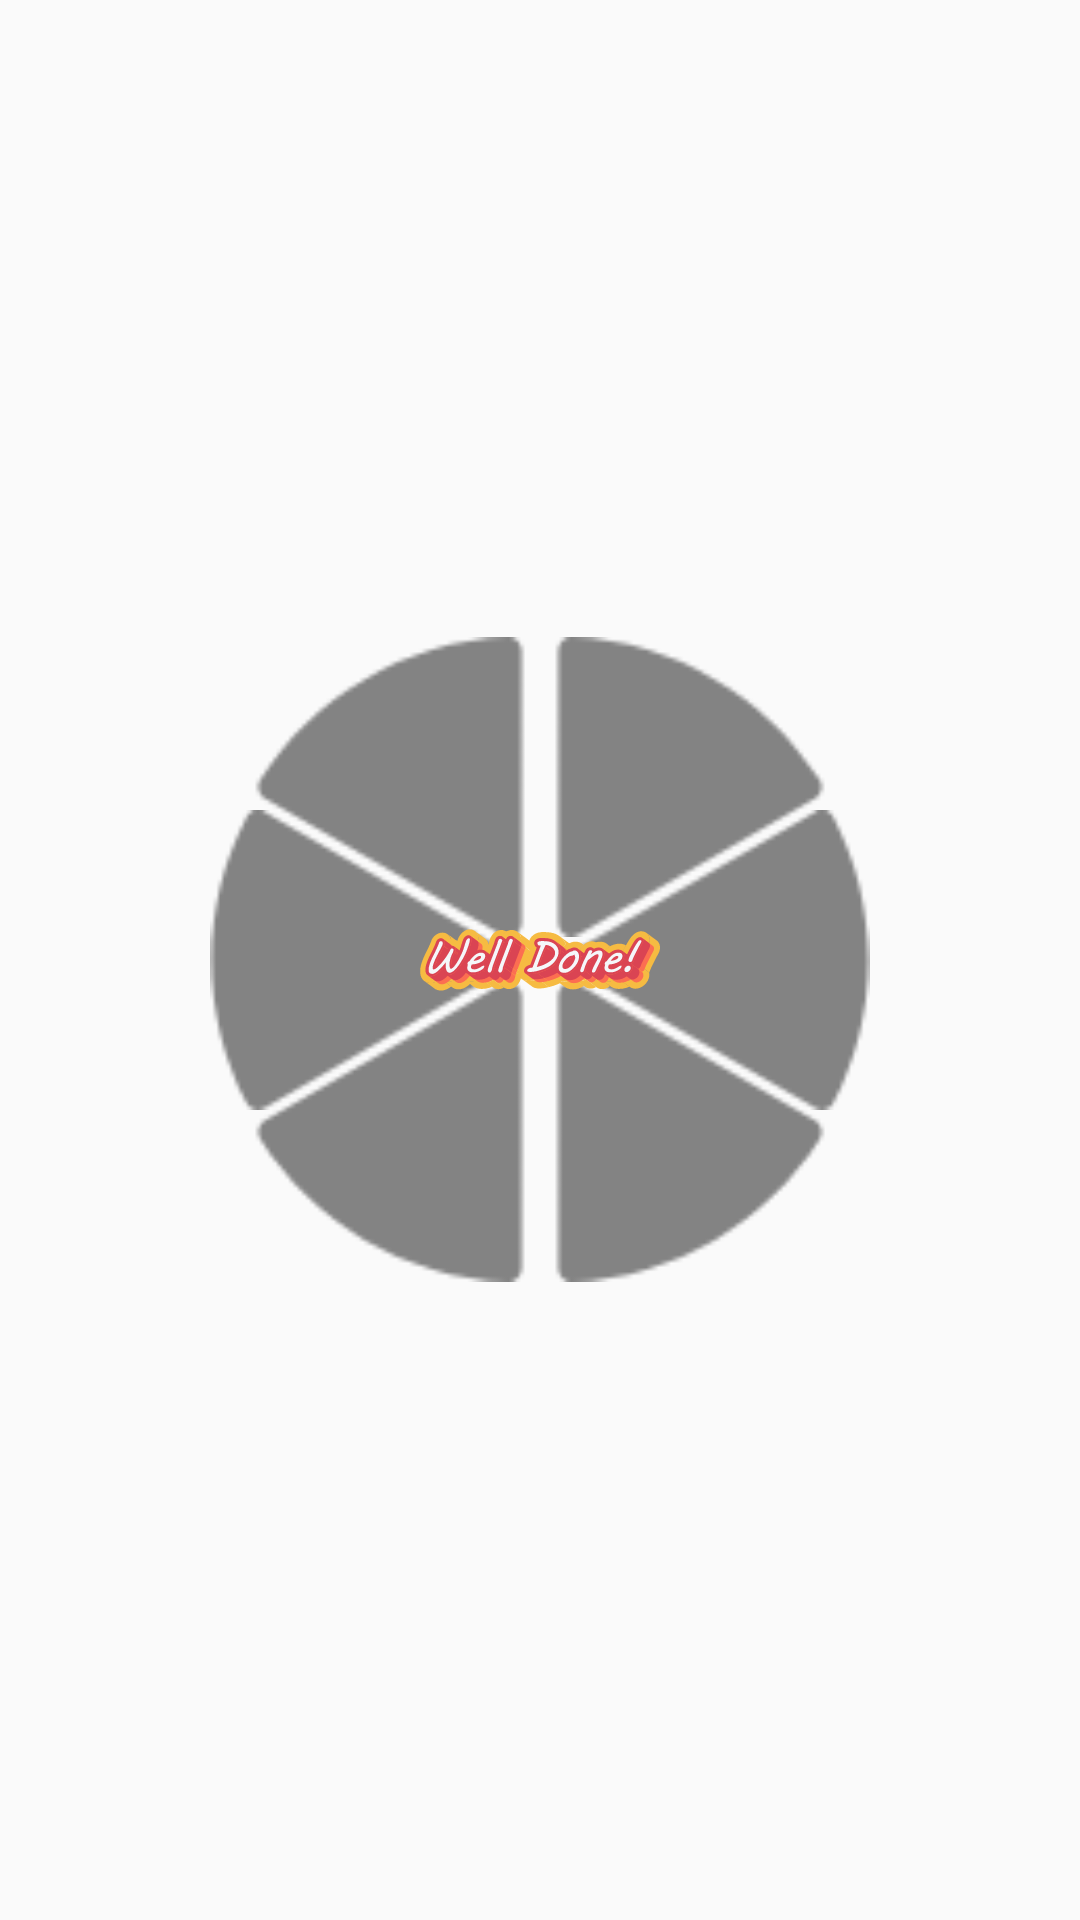

Locate icon controls on the screen. Image size 1080×1920, boxes as bbox=[x1, y1, x2, y2].
level left bottom: bbox=[240, 982, 540, 1282]
level left top: bbox=[240, 637, 540, 937]
level right bottom: bbox=[540, 982, 840, 1282]
level right top: bbox=[556, 637, 824, 937]
